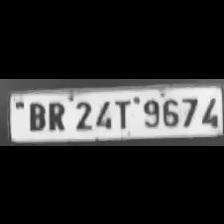2: (69, 97, 93, 130)
4: (198, 93, 220, 126), (92, 97, 114, 129)
6: (160, 95, 178, 127)
7: (178, 94, 196, 126)
9: (138, 95, 160, 127)
B: (24, 99, 46, 130)
R: (45, 98, 67, 132)
T: (112, 96, 134, 128)
